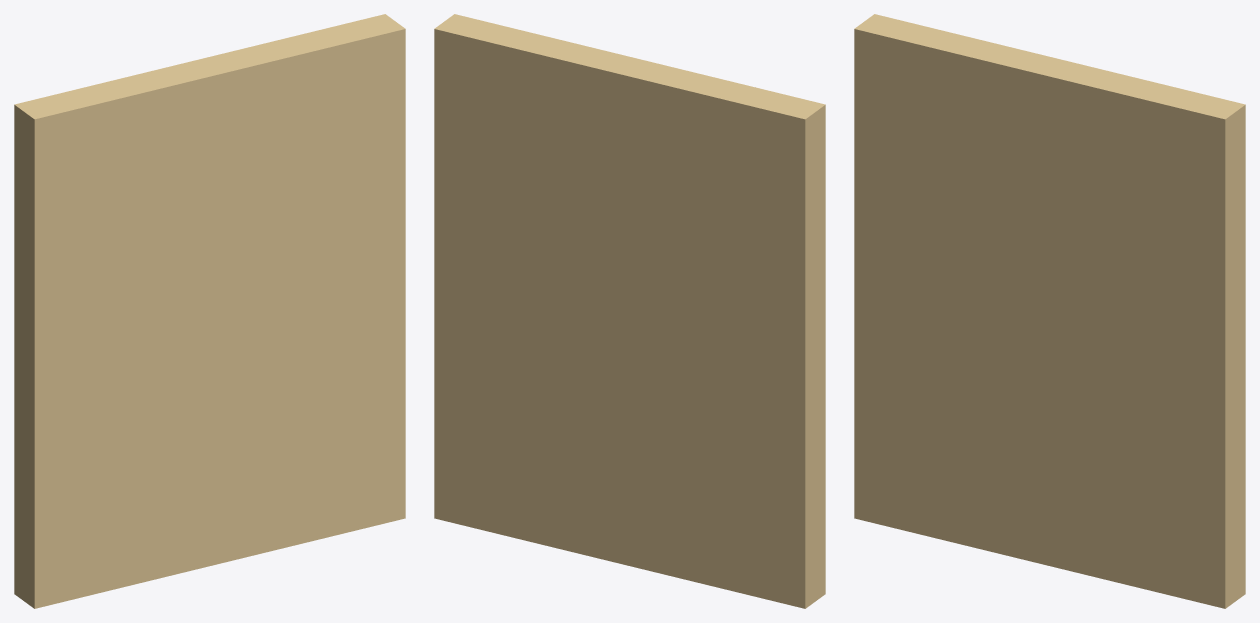
The model's file is original-2.obj.
The picture shows the model from 3 angles, left to right: view 1: azimuth 30°, elevation 25°; view 2: azimuth 150°, elevation 25°; view 3: azimuth 330°, elevation 25°; orthographic projection.
Parts seen in each view (by area): view 1: #ID13; view 2: #ID13; view 3: #ID13.
Part boxes in pixels (x1=…): #ID13: x1=14, y1=14, x2=405, y2=608; #ID13: x1=434, y1=14, x2=825, y2=608; #ID13: x1=854, y1=14, x2=1245, y2=608.
Size of the model in its own units: 1.23 by 1.56 by 0.1172.
